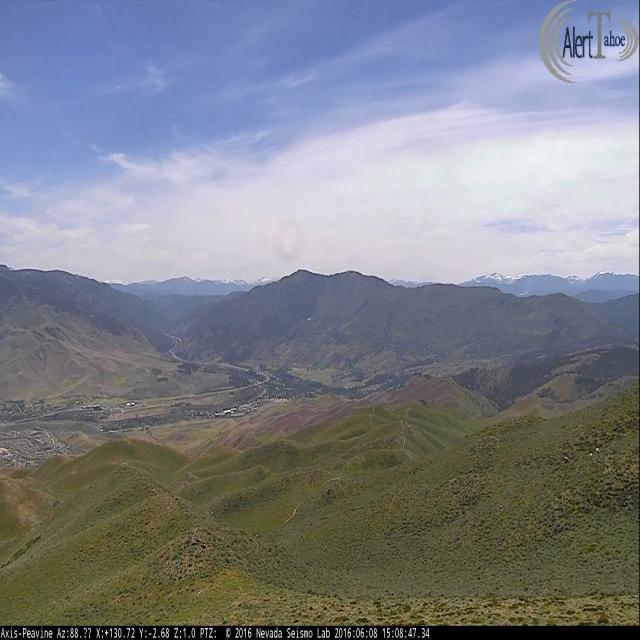smoke: (516, 281, 531, 295)
